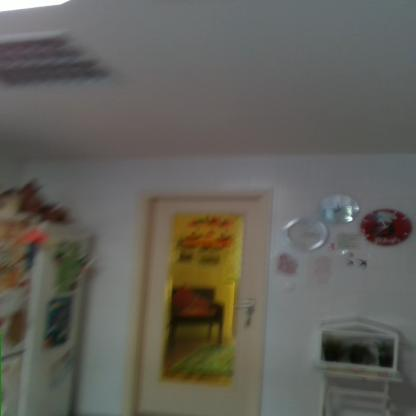closed: (126, 180, 285, 412)
